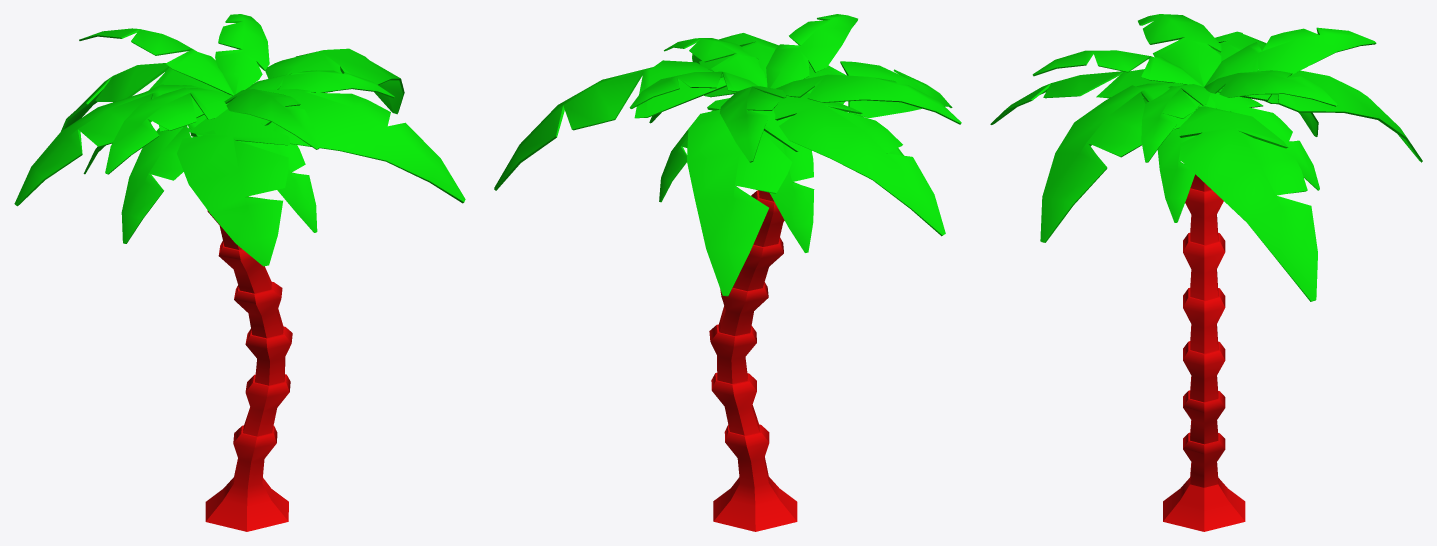
Rendered from Jungle_Tree_4.fbx.
The picture shows the model from 3 angles, left to right: view 1: azimuth 30°, elevation 25°; view 2: azimuth 150°, elevation 25°; view 3: azimuth 270°, elevation 25°; orthographic projection.
Parts seen in each view (by area): view 1: MESH_Jungle_Tree_4; view 2: MESH_Jungle_Tree_4; view 3: MESH_Jungle_Tree_4.
Boxes of the visible parts, left/top/right/bottom form: MESH_Jungle_Tree_4: left=14, top=14, right=465, bottom=531; MESH_Jungle_Tree_4: left=494, top=14, right=961, bottom=531; MESH_Jungle_Tree_4: left=990, top=14, right=1422, bottom=531.
Size of the model in its own units: 19.8 by 20.69 by 17.9.
